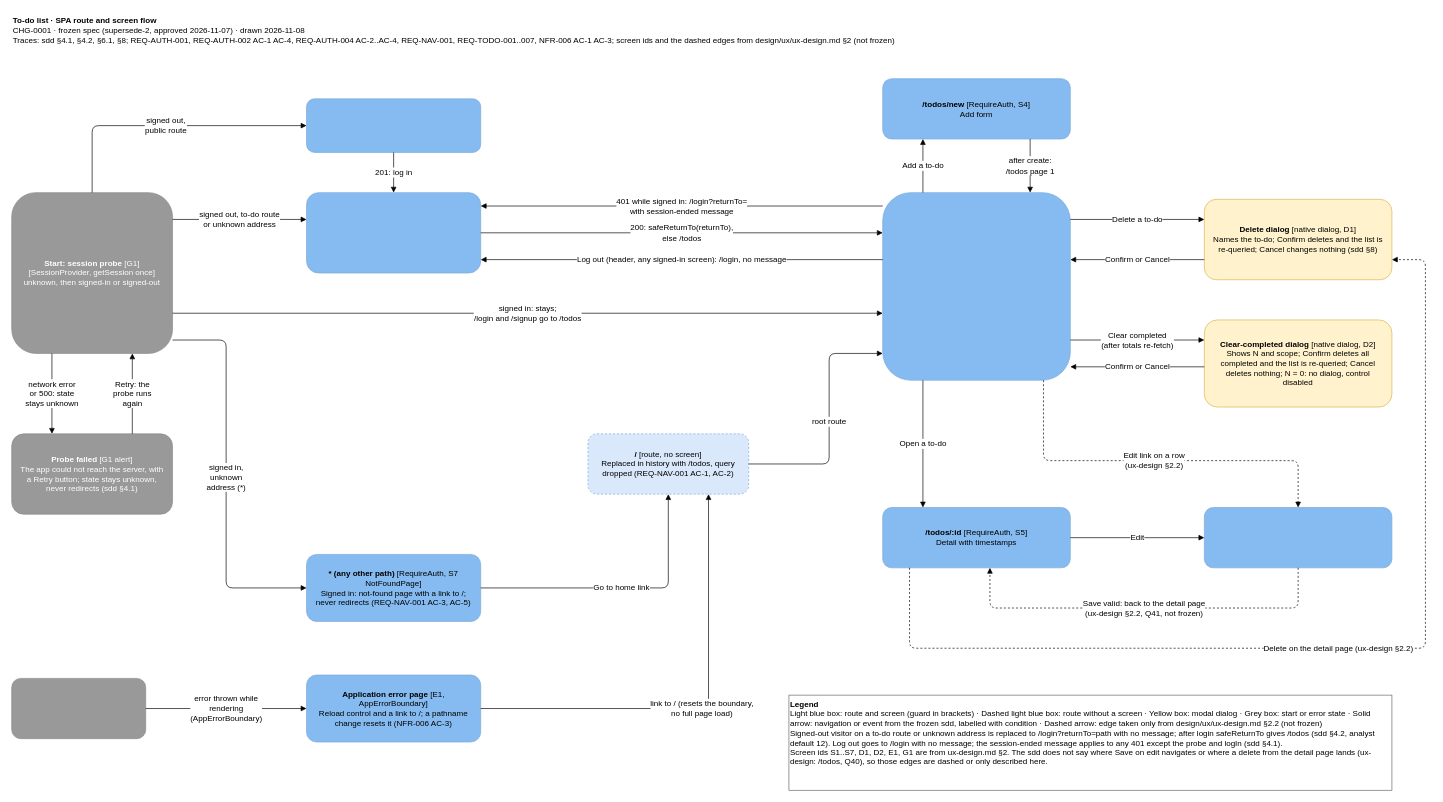
Some shapes in this 1443 by 802 pixel diagram are drawn without their labels. Each missing label, with the centre of its shape:
/login [public route, S2] Log-in form; messages come from router state: the point at 393,232
/signup [public route, S1] Sign-up form: the point at 393,125
/todos/:id/edit [RequireAuth, S6] Edit form: the point at 1298,537
/todos?status=&q=&page= [RequireAuth, S3] List, filter, search, pagination: the point at 976,286
Any screen An error is thrown while rendering: the point at 78,708
